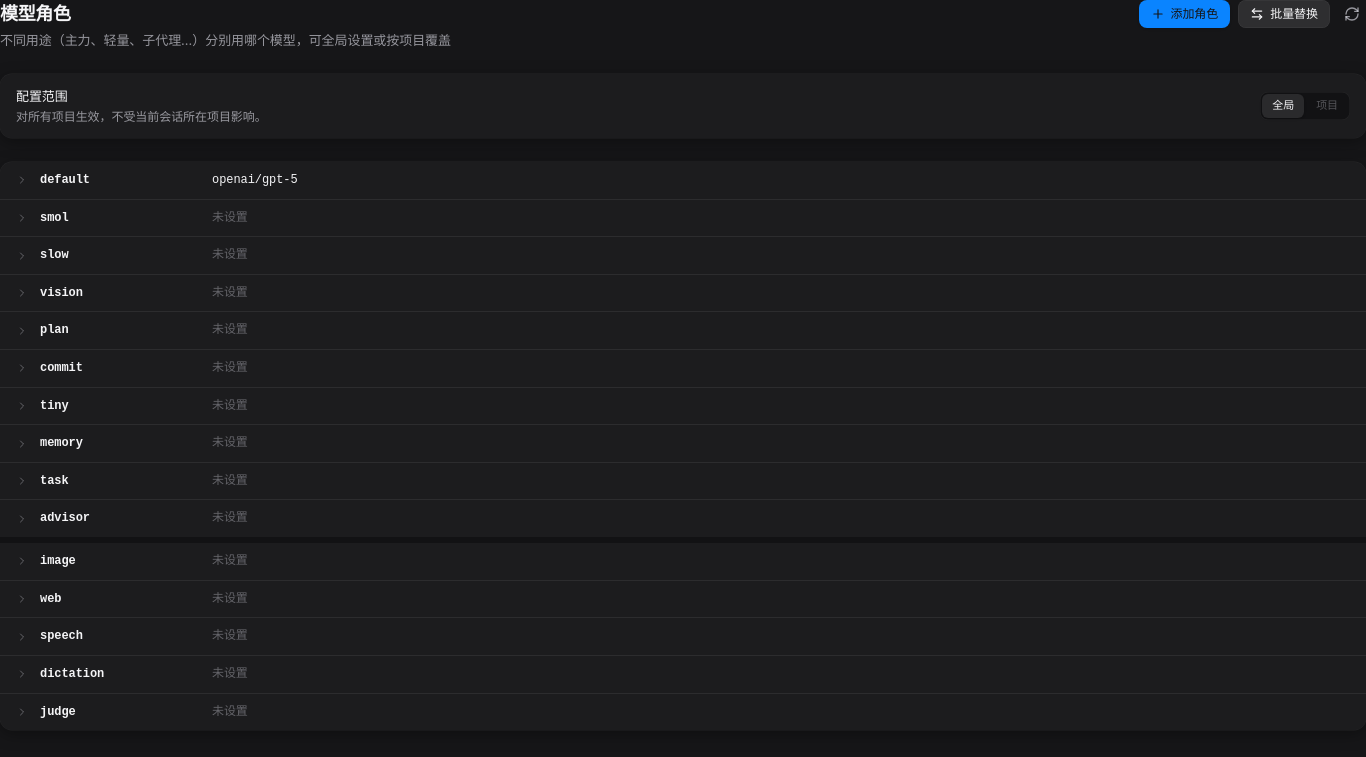
模型角色 添加角色 › refuses a name that is already a role without writing
This screenshot has width=1366, height=757.
Click the button "添加角色" at (1184, 14), box [1138,0,1230,28]
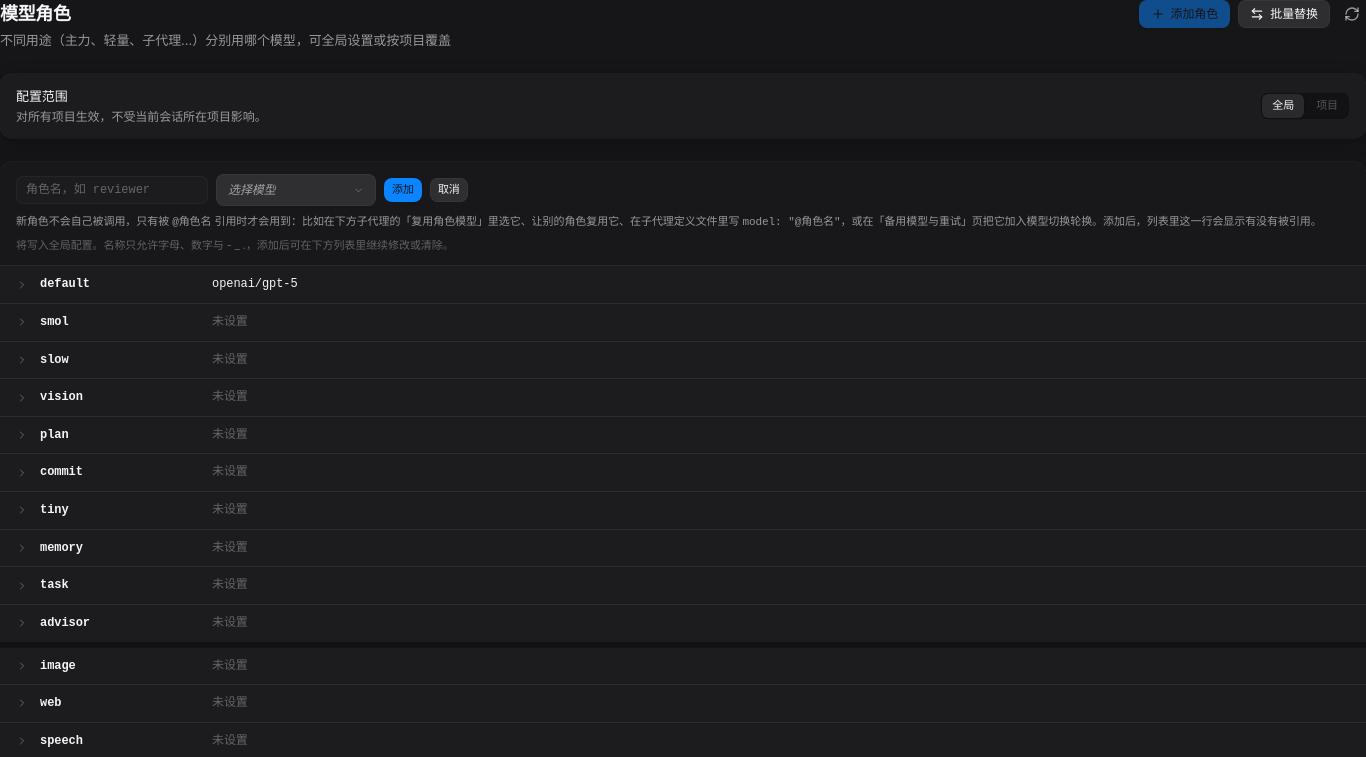
Type "smol" into the field named "新角色名称" at (112, 190), box [16,176,208,204]
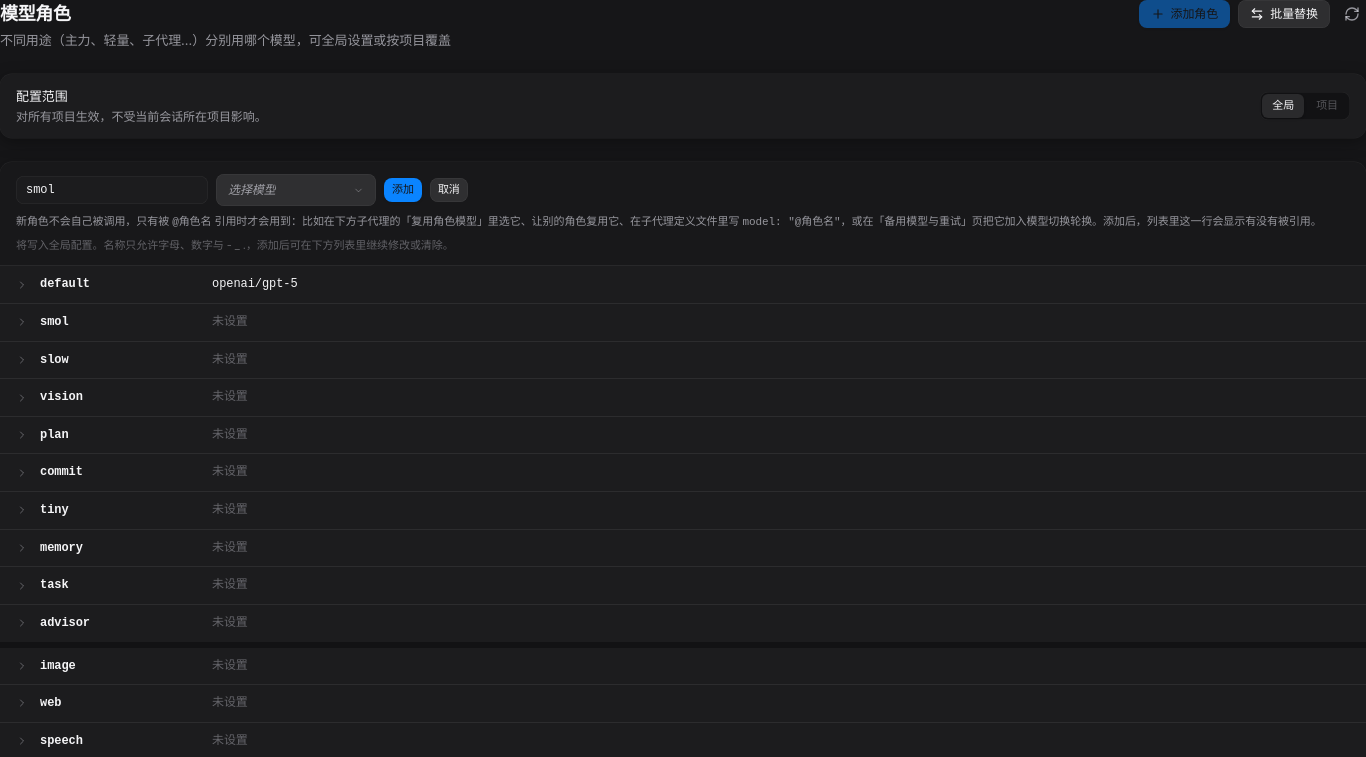
Click the button "添加" at (403, 190), box [384,178,422,202]
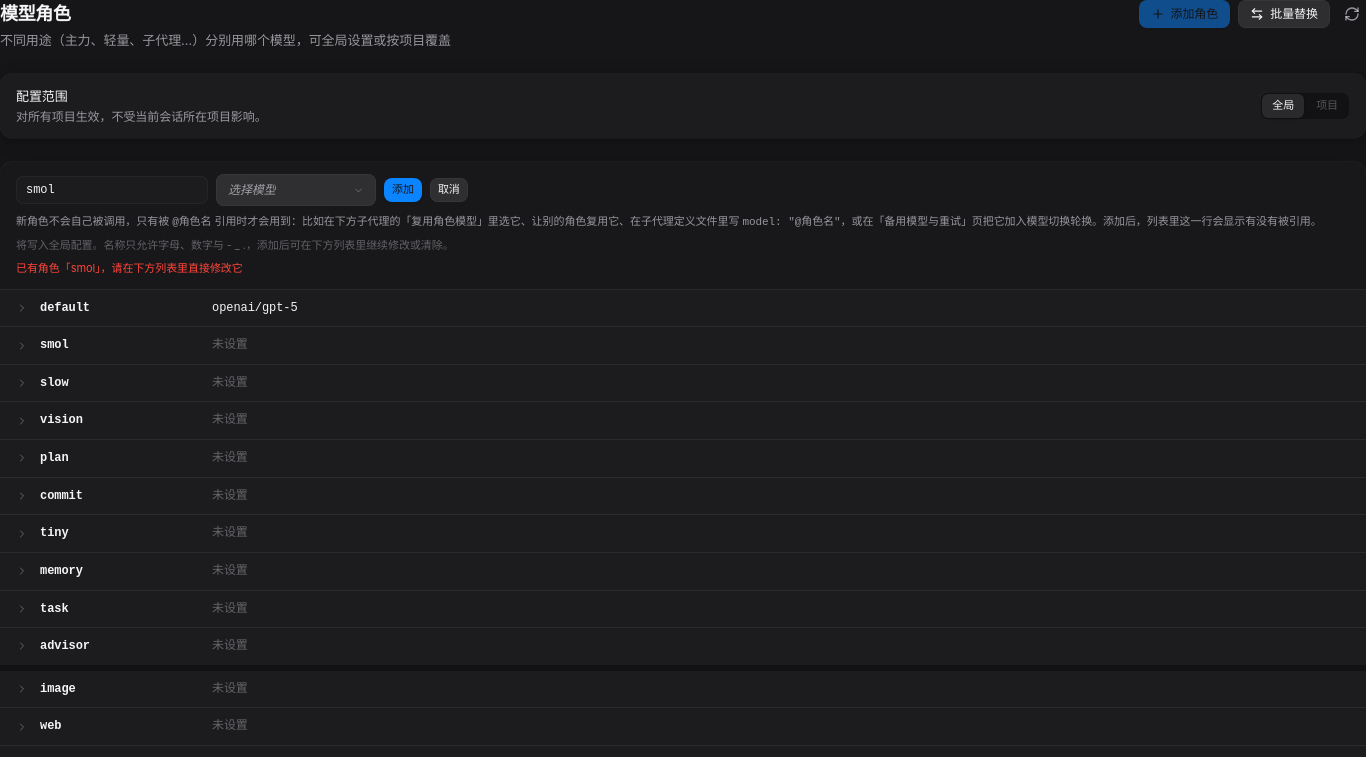
Expected: the message shows "已有角色「smol」", [16,261,243,275]
